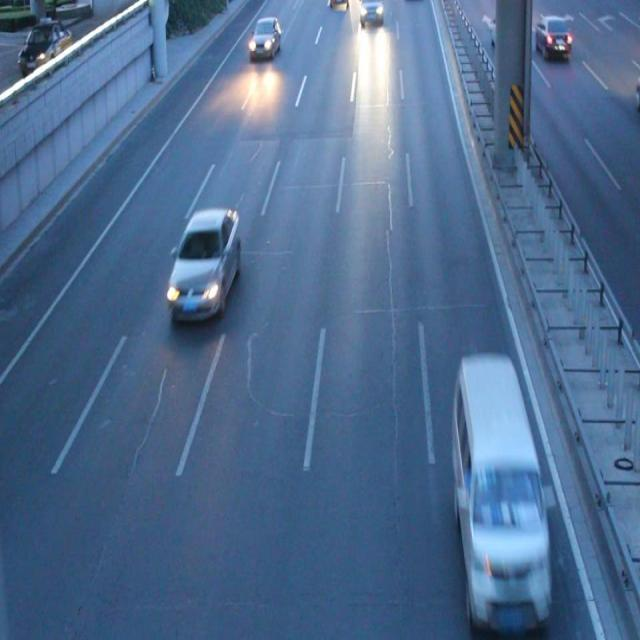car: (169, 210, 239, 315), (532, 16, 570, 56), (250, 20, 280, 56), (491, 8, 518, 43), (360, 1, 383, 23)
truck: (452, 356, 550, 600)
